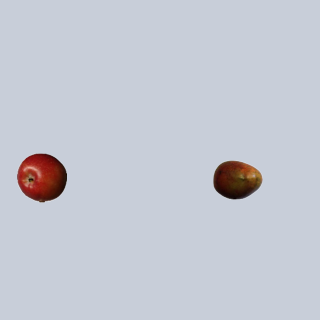Apple Braeburn: (16, 152, 66, 202)
Mango Red: (212, 154, 262, 204)
